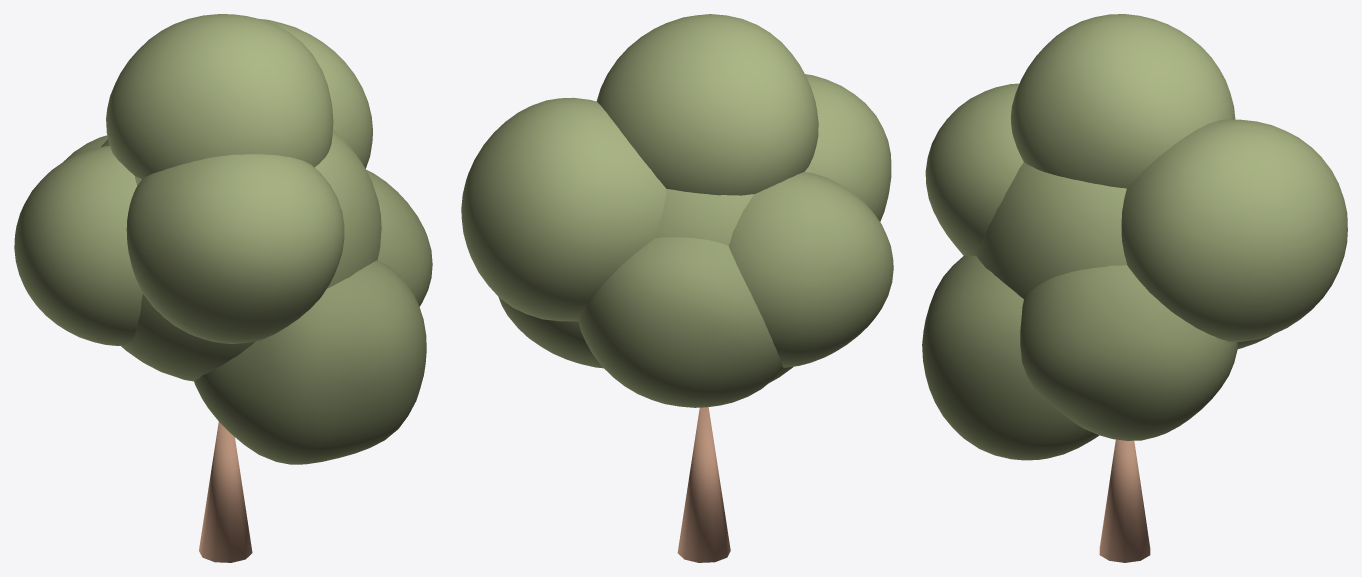
The model's file is tree_b.glb.
The picture shows the model from 3 angles, left to right: view 1: azimuth 30°, elevation 25°; view 2: azimuth 150°, elevation 25°; view 3: azimuth 270°, elevation 25°; orthographic projection.
Parts seen in each view (by area): view 1: crown, trunk; view 2: crown, trunk; view 3: crown, trunk.
Boxes of the visible parts, left/top/right/bottom form: crown: left=14, top=14, right=432, bottom=464; trunk: left=199, top=421, right=252, bottom=562; crown: left=461, top=14, right=893, bottom=407; trunk: left=677, top=407, right=730, bottom=562; crown: left=922, top=14, right=1347, bottom=460; trunk: left=1099, top=439, right=1150, bottom=562.
Size of the model in its own units: 5.88 by 7.87 by 5.79.
